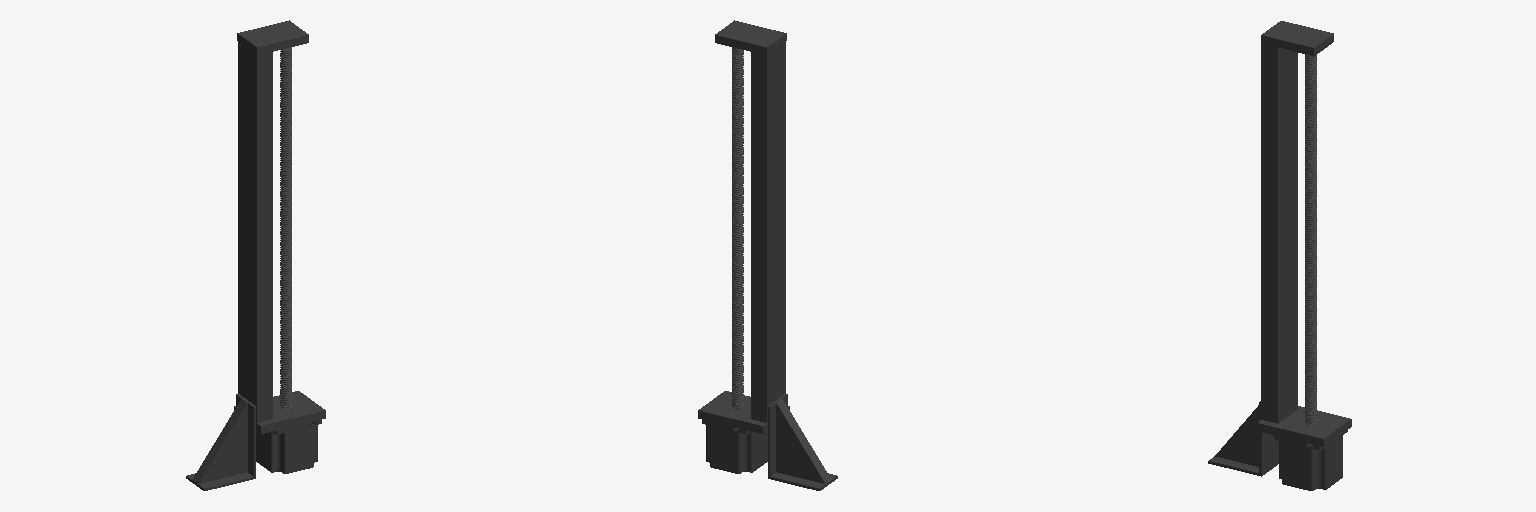
The robot description file, URDF, robot "actuated_platform":
<?xml version="1.0" ?>
<robot name="actuated_platform">

  <material name="white">
	<color rgba="0.95 0.95 0.95 1"/>
  </material>

  <material name="silver">
	<color rgba="0.3 0.3 0.3 1"/>
  </material>

  <link name="world" />

  <joint name="world_joint" type="fixed">
    <origin rpy="0 0 0" xyz="-.325 .3 0"/>
    <parent link="world"/>
    <child link="scanning_system/z-rail"/>
  </joint>

  <link name="scanning_system/z-rail">
	<visual>
		<origin xyz="0 0 0"/>
		<geometry>
			<mesh filename="../Data/meshes/SCAN_RAIL_Z.stl" scale="0.001 0.001 0.001"/>
		</geometry>
		<material name="silver"/>
	</visual>

	<collision>
		<origin xyz="0 0 0"/>
		<geometry>
			<mesh filename="../Data/meshes/SCAN_RAIL_Z.stl" scale="0.001 0.001 0.001"/>
		</geometry>
	</collision>

	<inertial>
      <origin rpy="0 0 0" xyz="0 0 0"/>
      <mass value="20"/>
      <inertia ixx="0.0033530000" ixy="-0.0001246000" ixz="0.0000110600" iyy="0.0013570000" iyz="0.0002103000" izz="0.0041110000"/>
    </inertial>
  </link>

</robot>

--- Facts derived from the render (not from the file) ---
The picture shows the robot from 3 angles, left to right: view 1: azimuth 30°, elevation 25°; view 2: azimuth 150°, elevation 25°; view 3: azimuth 330°, elevation 25°; orthographic projection.
Model actuated_platform with 2 links and 1 joints (1 fixed), rooted at world, posed every joint at zero.
Visible links, largest first — view 1: scanning_system/z-rail; view 2: scanning_system/z-rail; view 3: scanning_system/z-rail.
Link boxes in pixels (x1=…): scanning_system/z-rail: x1=186, y1=20, x2=325, y2=490; scanning_system/z-rail: x1=698, y1=20, x2=837, y2=490; scanning_system/z-rail: x1=1208, y1=21, x2=1351, y2=490.
Size in the robot's own frame: 0.1429 by 0.0572 by 0.5032 metres.
Meshes: 1 distinct files referenced, 1 mesh visuals loaded (1 binary STL).